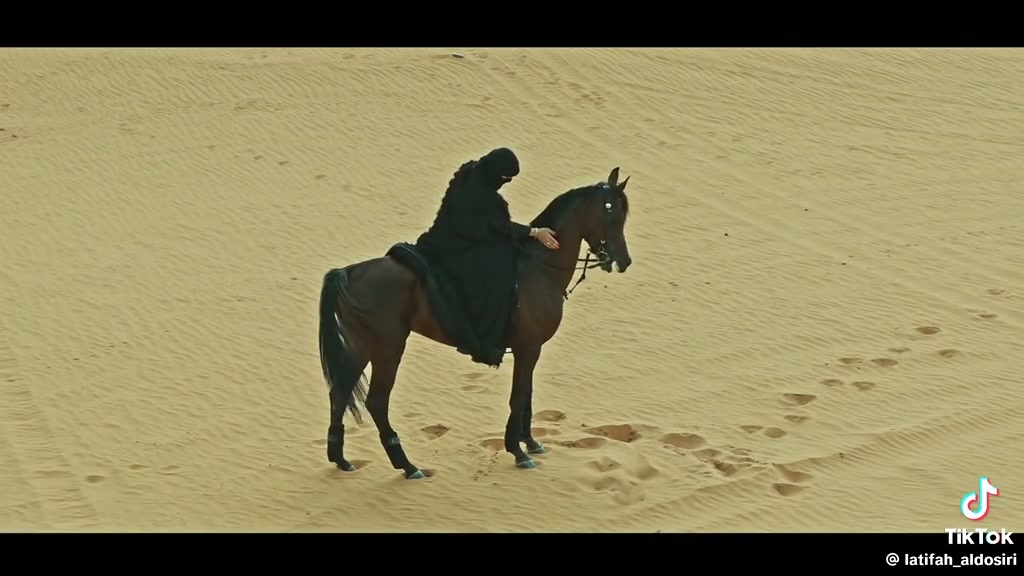animal_foot_print: (659, 432, 759, 477), (578, 452, 660, 504), (692, 446, 763, 478), (771, 464, 812, 496), (584, 423, 642, 442), (819, 378, 876, 390), (837, 357, 897, 367), (740, 426, 786, 438), (420, 424, 451, 440), (780, 393, 816, 406), (968, 309, 997, 320), (783, 414, 810, 424), (915, 325, 940, 335), (936, 348, 960, 358), (986, 288, 1006, 295)
